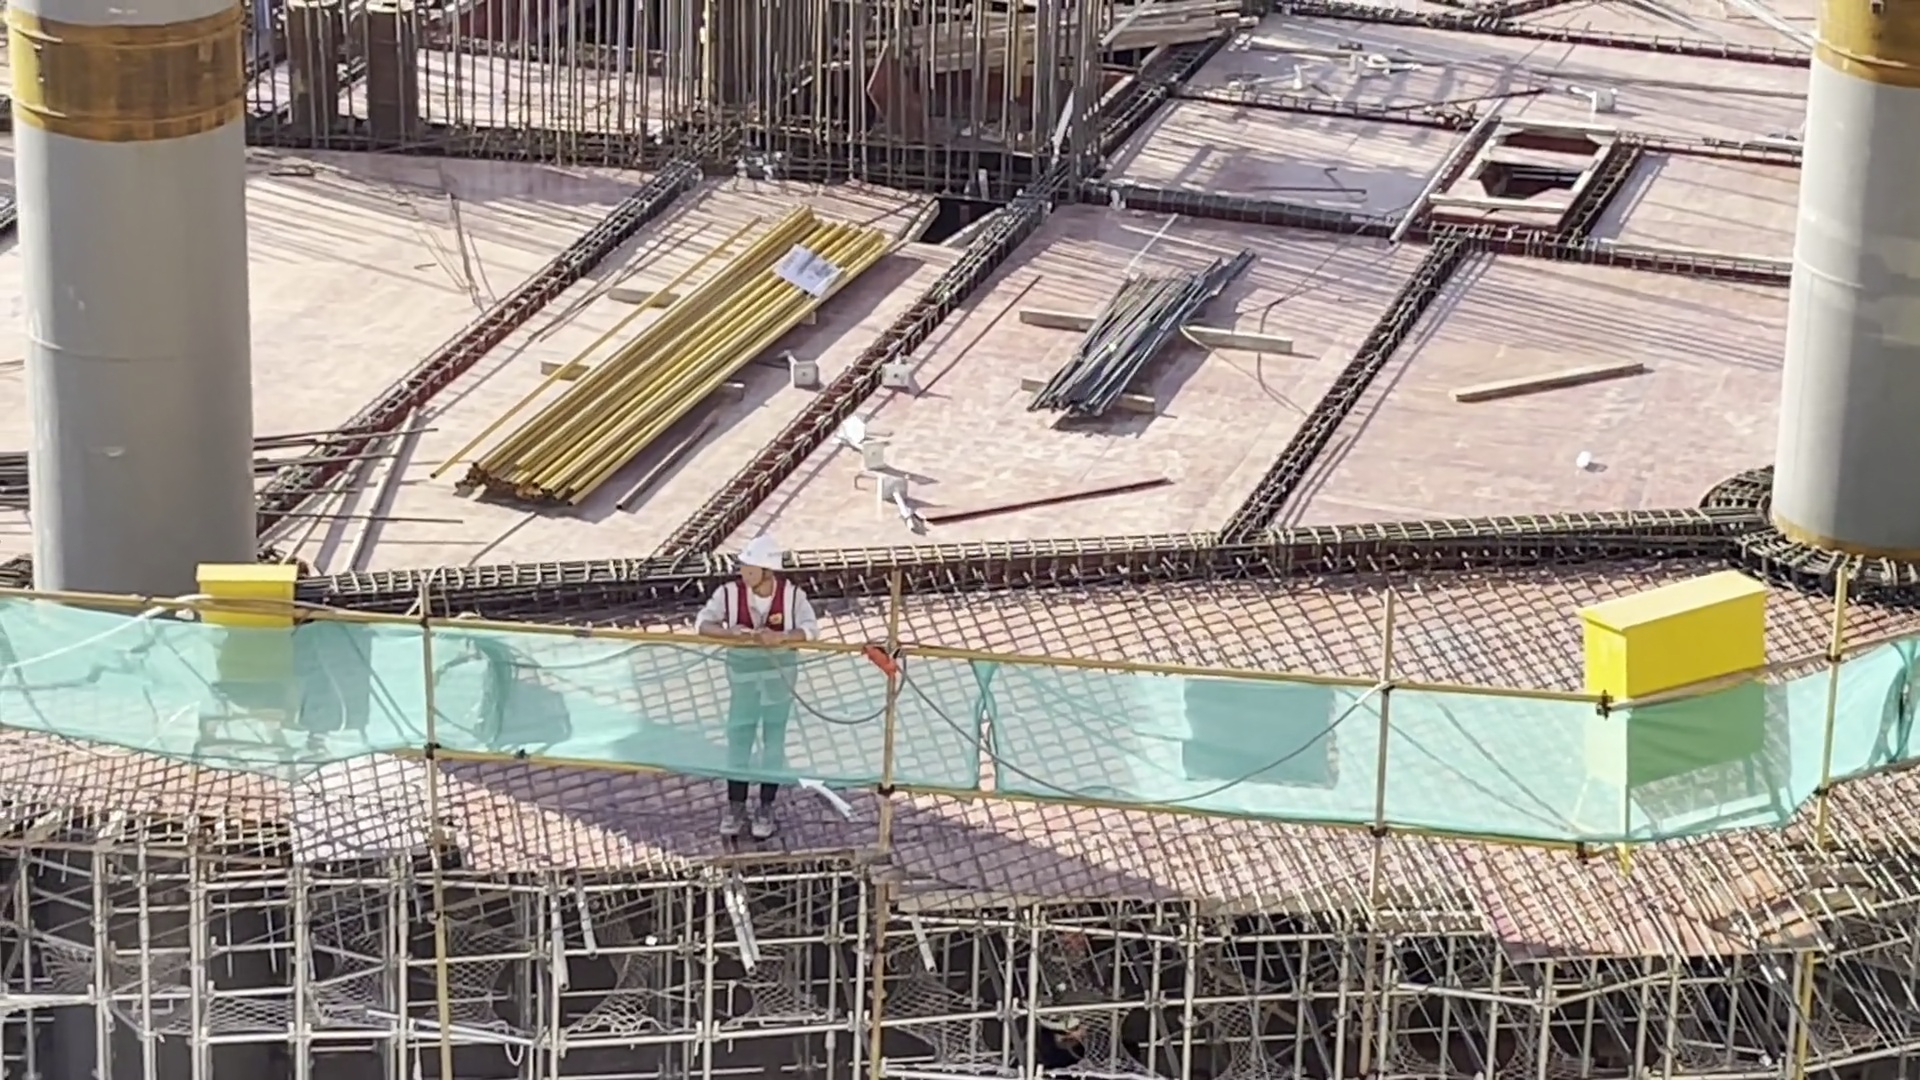ebox: (1613, 592, 1811, 911), (201, 541, 301, 706)
helmet: (741, 542, 779, 589), (1064, 924, 1093, 969)
person: (713, 540, 809, 798), (1033, 918, 1106, 1080)
rebar: (1044, 226, 1193, 384)
vest: (741, 586, 803, 694), (1053, 957, 1099, 1057)
